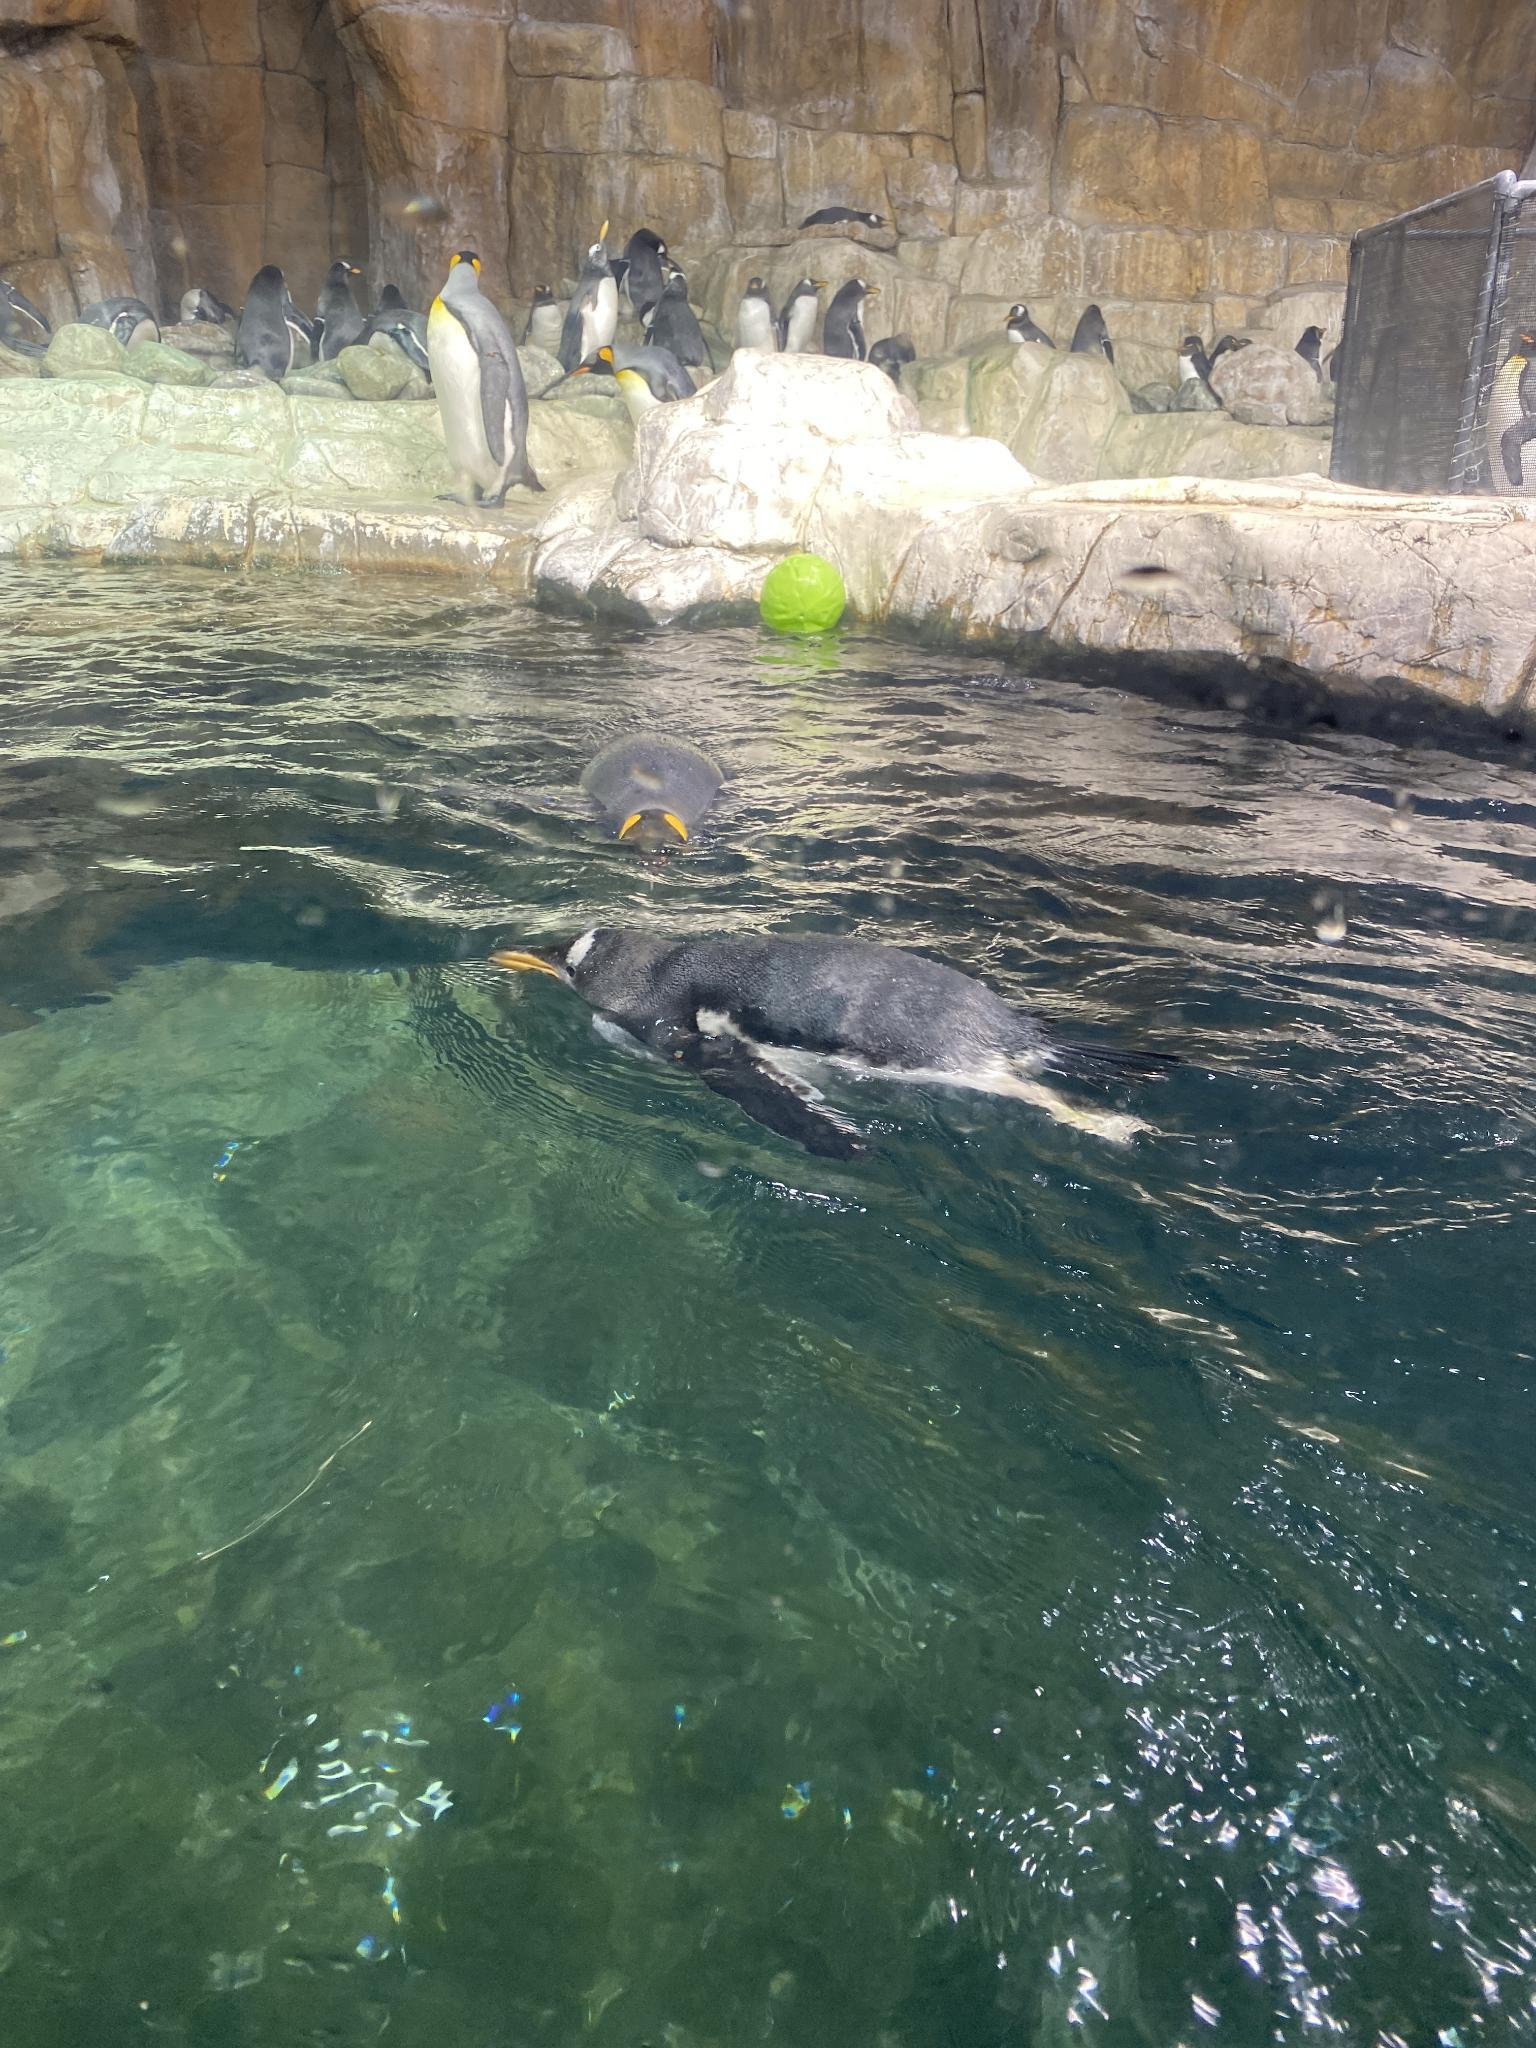penguin: (487, 914, 1183, 1164), (431, 247, 545, 506), (579, 731, 724, 871), (574, 340, 699, 434), (239, 263, 313, 384), (641, 261, 716, 379), (558, 214, 615, 369), (1484, 324, 1534, 498), (616, 224, 666, 323), (315, 261, 365, 355), (776, 269, 833, 350), (733, 268, 781, 355), (829, 273, 879, 356), (86, 297, 161, 347), (0, 276, 47, 355), (1066, 300, 1118, 371), (997, 302, 1050, 363), (1176, 329, 1217, 406), (866, 332, 920, 390), (795, 203, 891, 232), (1296, 321, 1331, 379), (179, 281, 224, 324)
